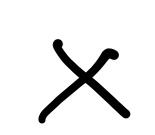mult: (39, 39, 131, 123)
